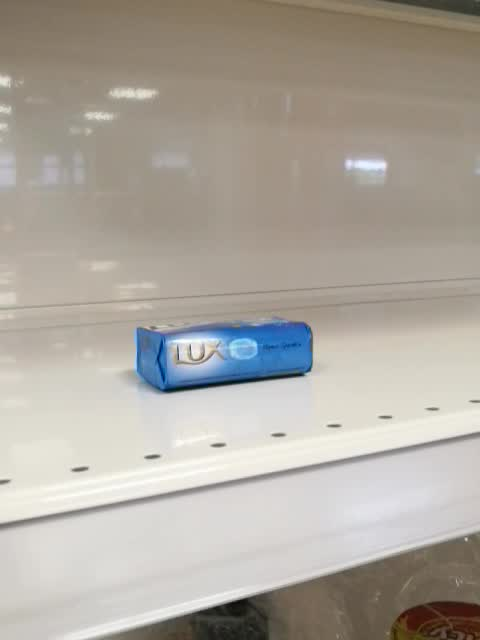soap: (135, 315, 315, 393)
